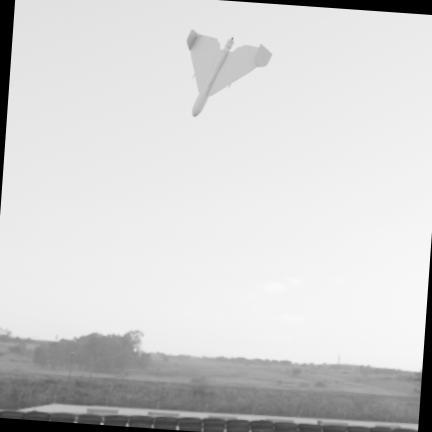Shahed: (187, 30, 271, 115)
